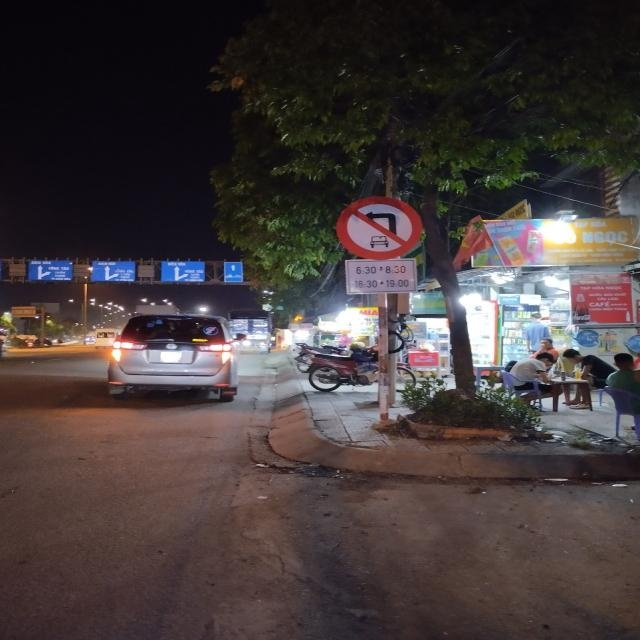bien_cam: (340, 196, 420, 262)
